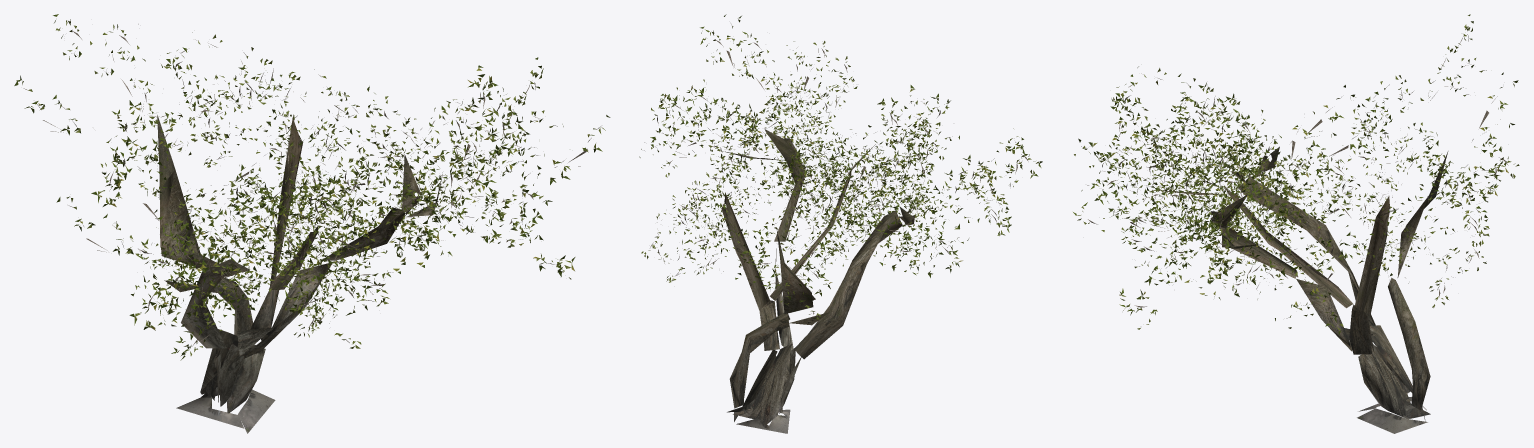
File: island_tree_02_lod1.gltf
The picture shows the model from 3 angles, left to right: view 1: azimuth 30°, elevation 25°; view 2: azimuth 150°, elevation 25°; view 3: azimuth 270°, elevation 25°; orthographic projection. The views are drawn at different scales.
Visible parts, largest first — view 1: island_tree_02_lod1; view 2: island_tree_02_lod1; view 3: island_tree_02_lod1.
Boxes of the visible parts, box(x1,y1,x2,y2) form: island_tree_02_lod1: box(14, 14, 610, 433); island_tree_02_lod1: box(639, 14, 1042, 433); island_tree_02_lod1: box(1073, 14, 1519, 433).
Bounding box in the file's own units: 3.79 × 3.44 × 3.99.
Materials: 3 (3 with a texture image).
